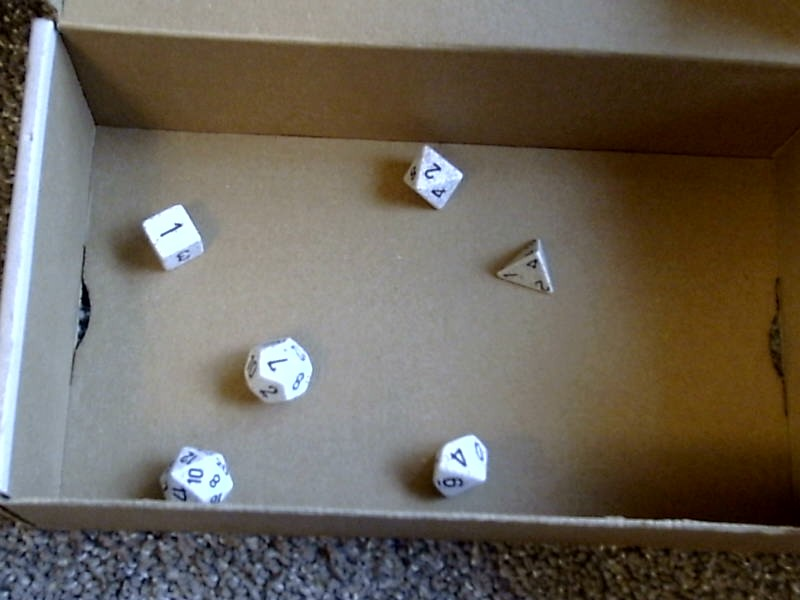d10 4: (423, 429, 497, 504)
d12 7: (236, 332, 320, 408)
d20 10: (154, 437, 237, 516)
d4 4: (489, 232, 565, 300)
d6 1: (130, 199, 214, 275)
d8 2: (389, 143, 469, 216)
